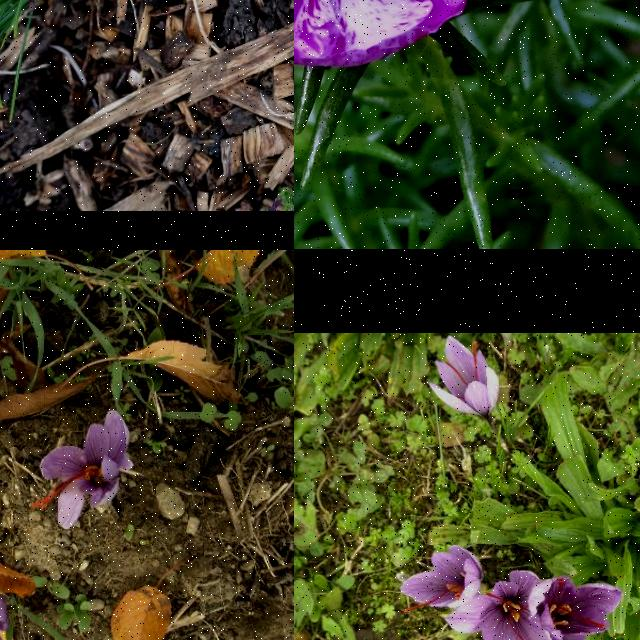flower: (34, 410, 136, 530), (446, 570, 548, 640), (528, 577, 624, 640), (401, 546, 484, 614), (429, 336, 499, 416)
